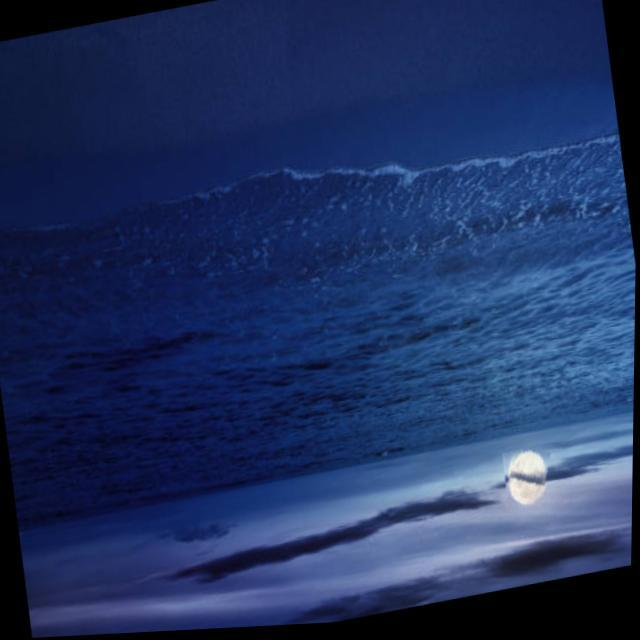moon: (502, 450, 556, 520)
